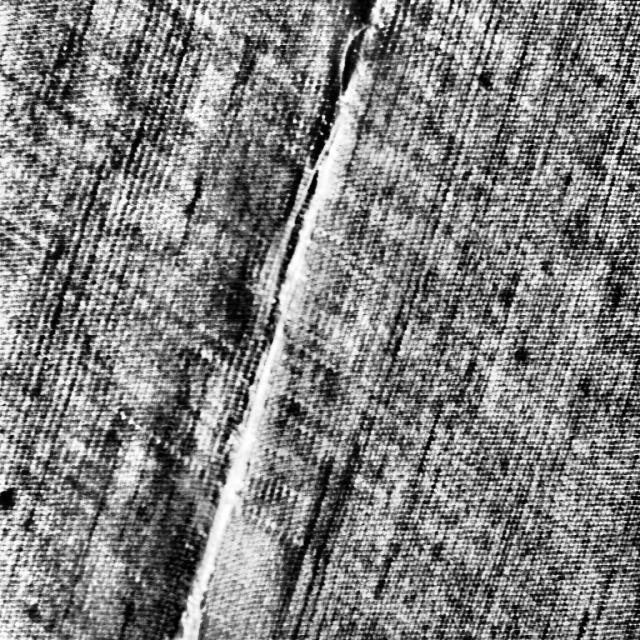Hole: (164, 0, 390, 632)
